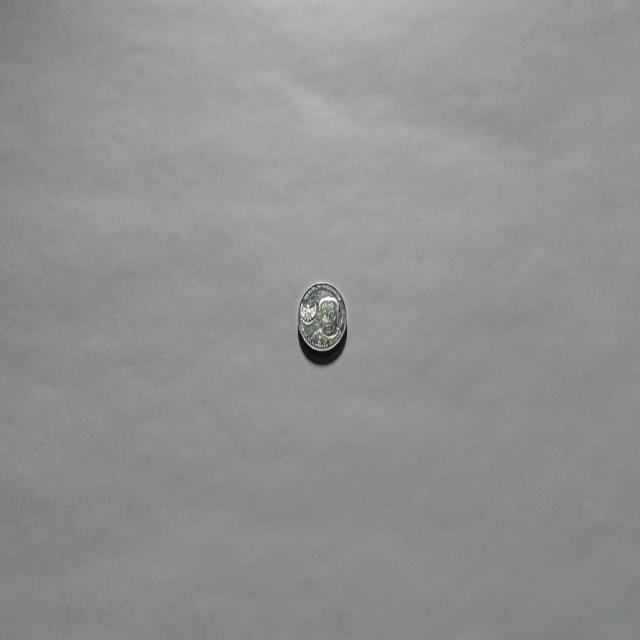seratus rupiah: (296, 280, 348, 361)
